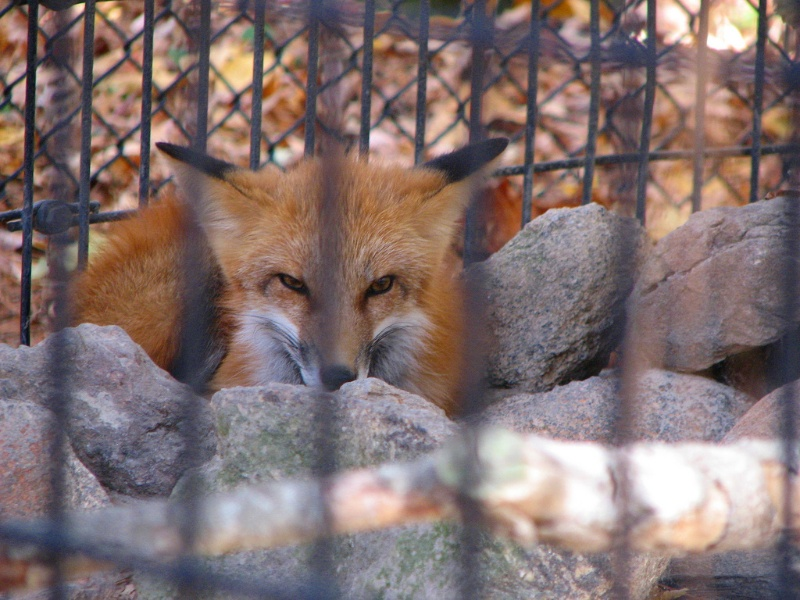fox: (49, 128, 512, 424)
